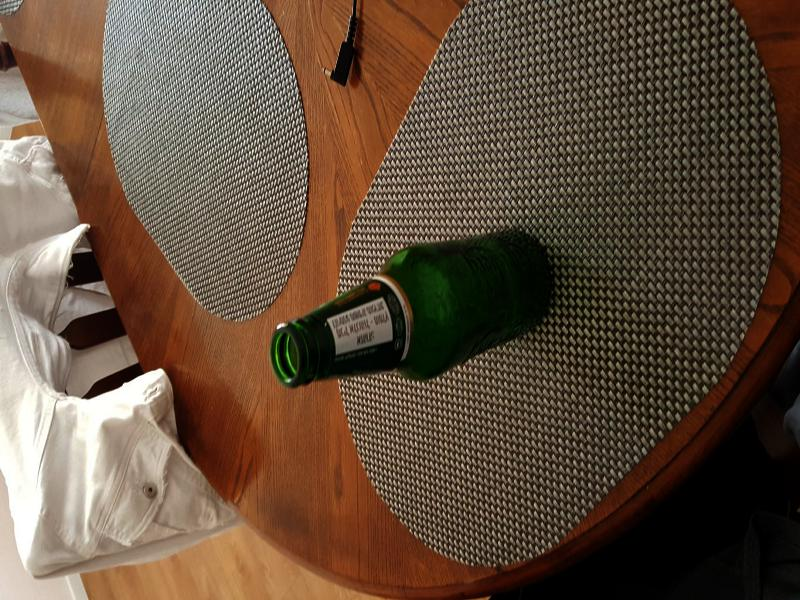Beer: (274, 228, 552, 376)
